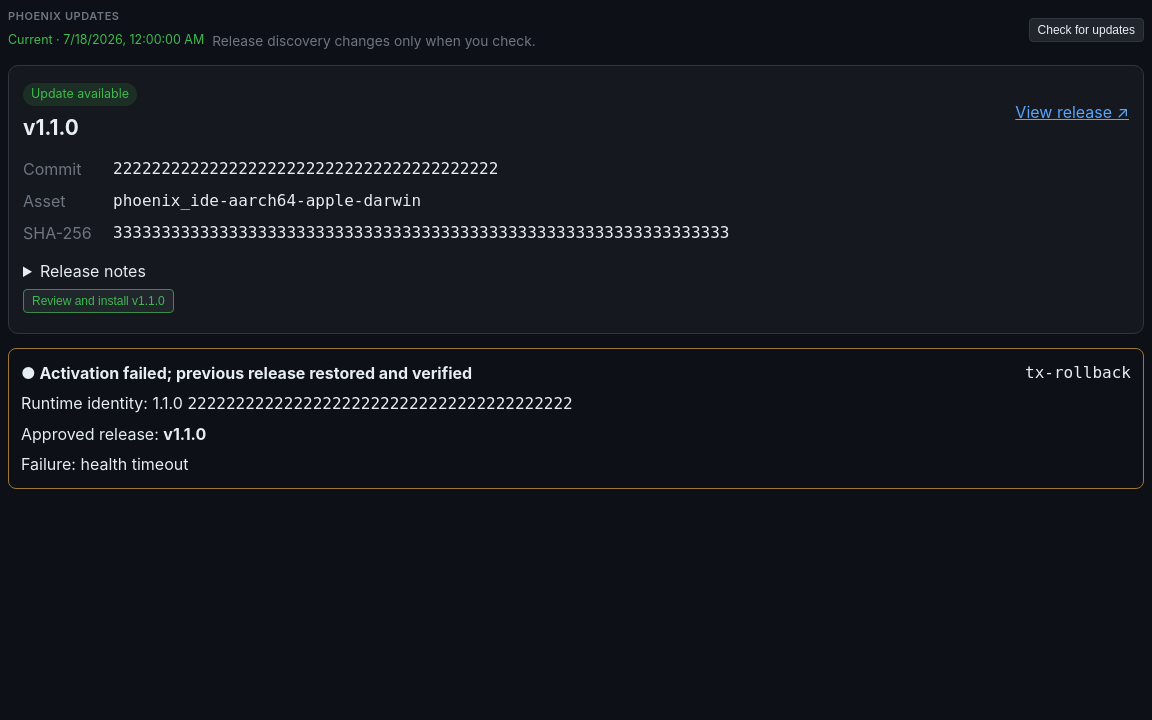
Test case: ReleaseUpdatePanel › distinguishes verified rollback from rollback failure
Check: the text "● Activation failed; previous release restored and verified" is shown, box [21,361,472,385]
Click the button "Check for updates". click: (1086, 30)
box: [1029,18,1144,42]
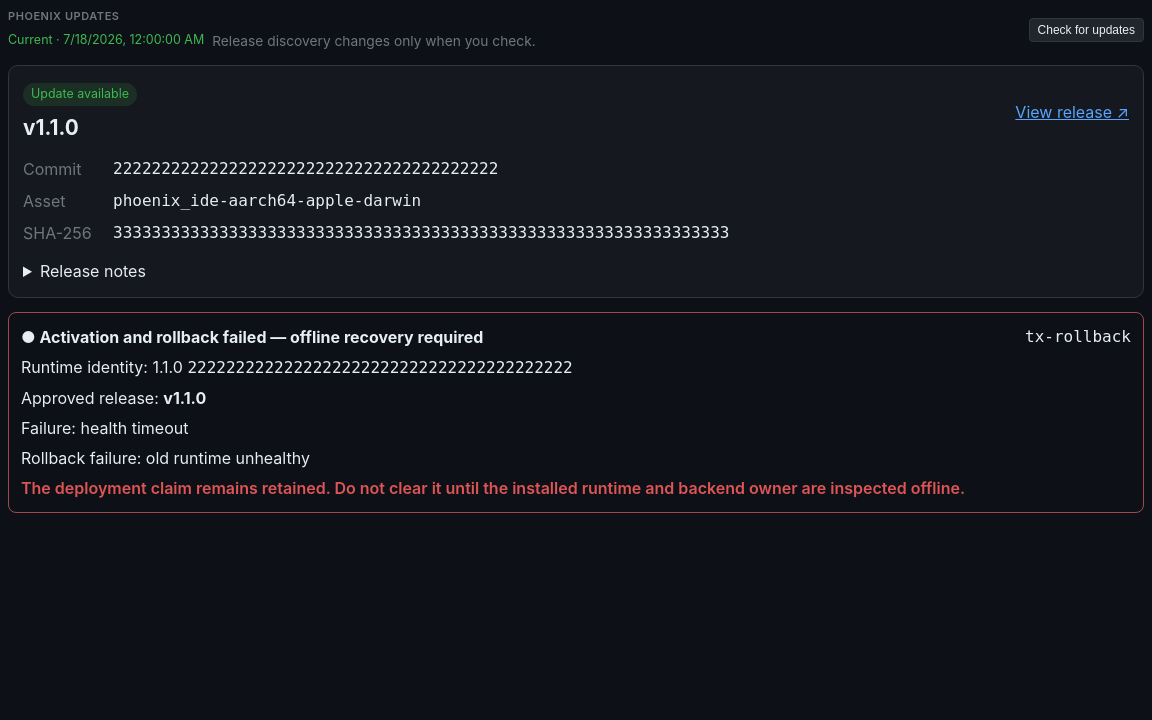
Check: the text "● Activation and rollback failed — offline recovery required" is shown, box [21,325,483,349]
Check: the text "claim remains retained" is shown, box [21,478,965,498]
Check: the button "install v1.1.0" is gone
